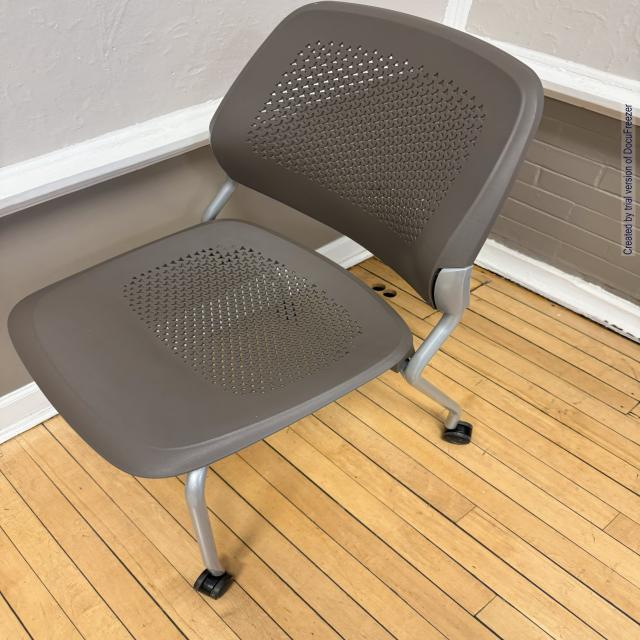chair: (3, 0, 557, 594)
